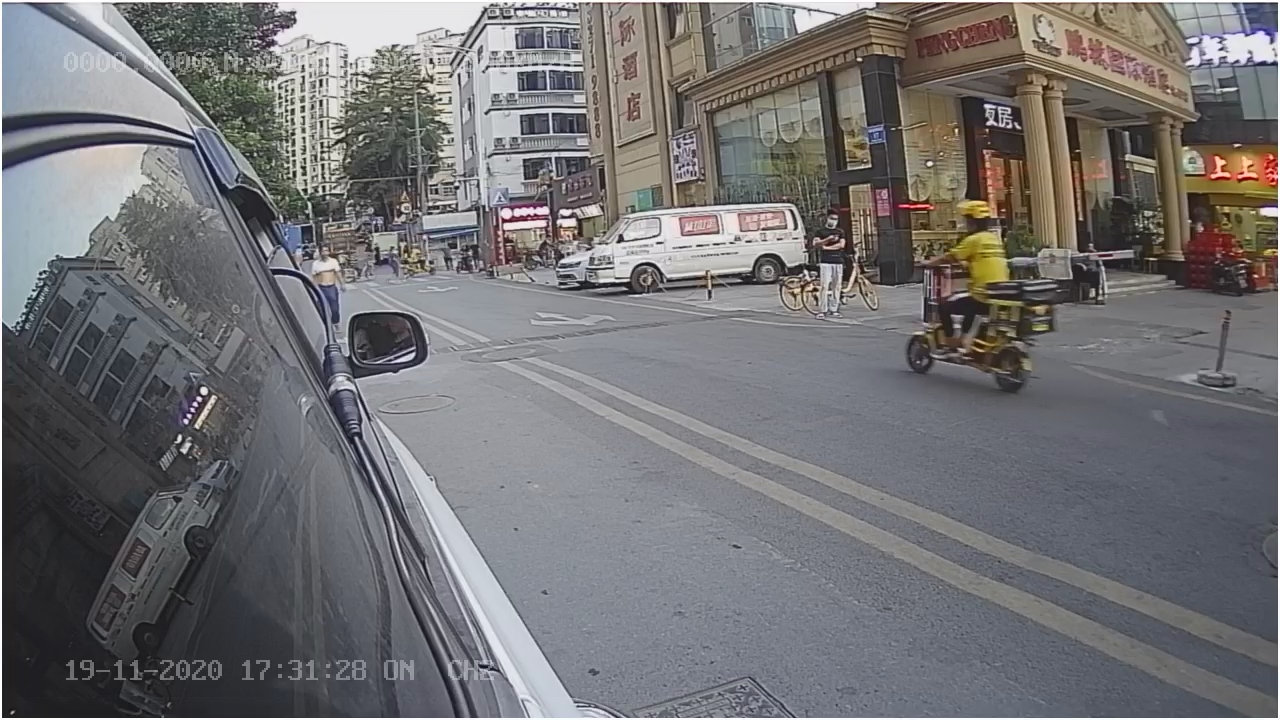person: (927, 195, 1008, 281)
